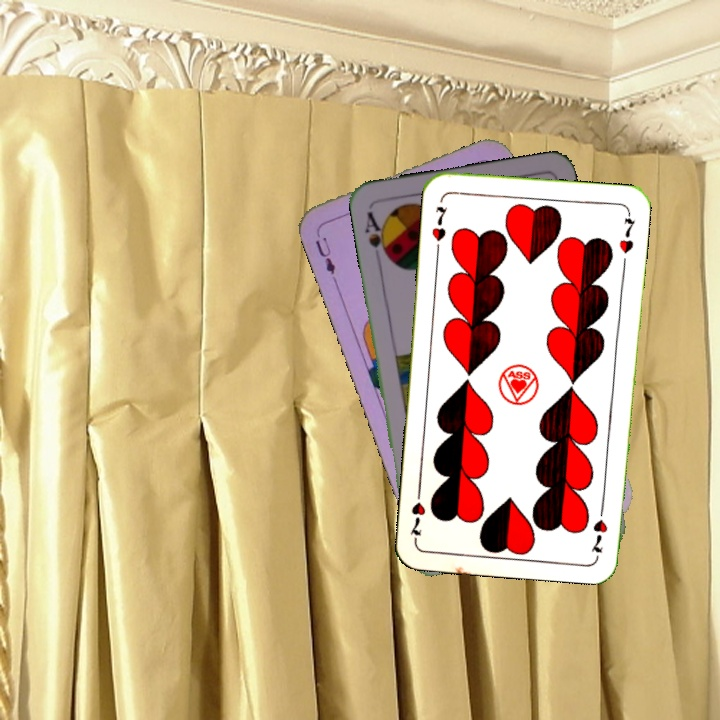EU: (311, 226, 339, 283)
H7: (427, 202, 450, 255), (589, 499, 610, 555)
SA: (360, 207, 392, 264)
